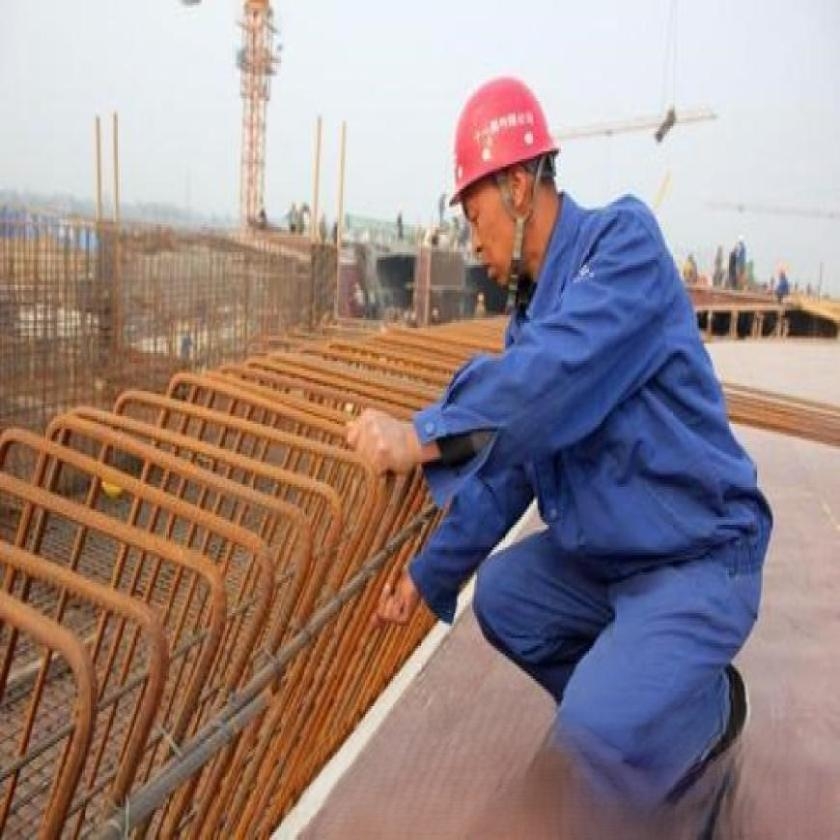Con_casco: (441, 76, 566, 287)
